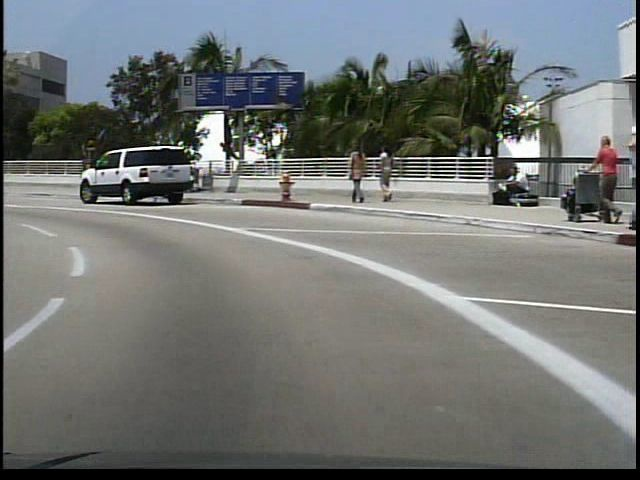person: (585, 130, 616, 228), (345, 139, 366, 208), (372, 144, 395, 204), (493, 166, 524, 208)
